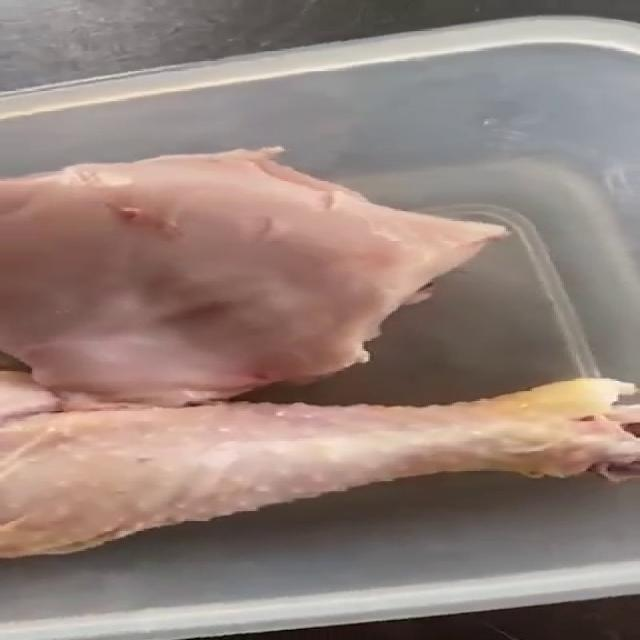chicken: (0, 144, 640, 559)
